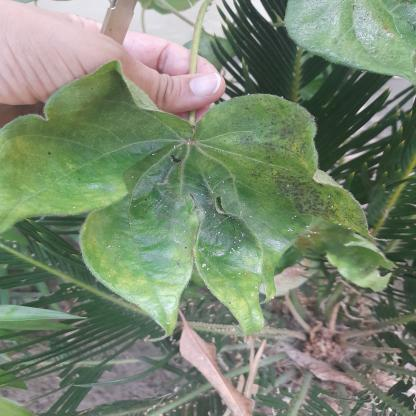curl_stage1: (1, 136, 129, 227), (84, 223, 183, 306), (328, 236, 384, 279), (52, 97, 108, 137), (216, 283, 269, 325)
sooty: (152, 162, 248, 228), (255, 171, 352, 229), (234, 102, 316, 168), (328, 10, 416, 55), (196, 224, 198, 225)
